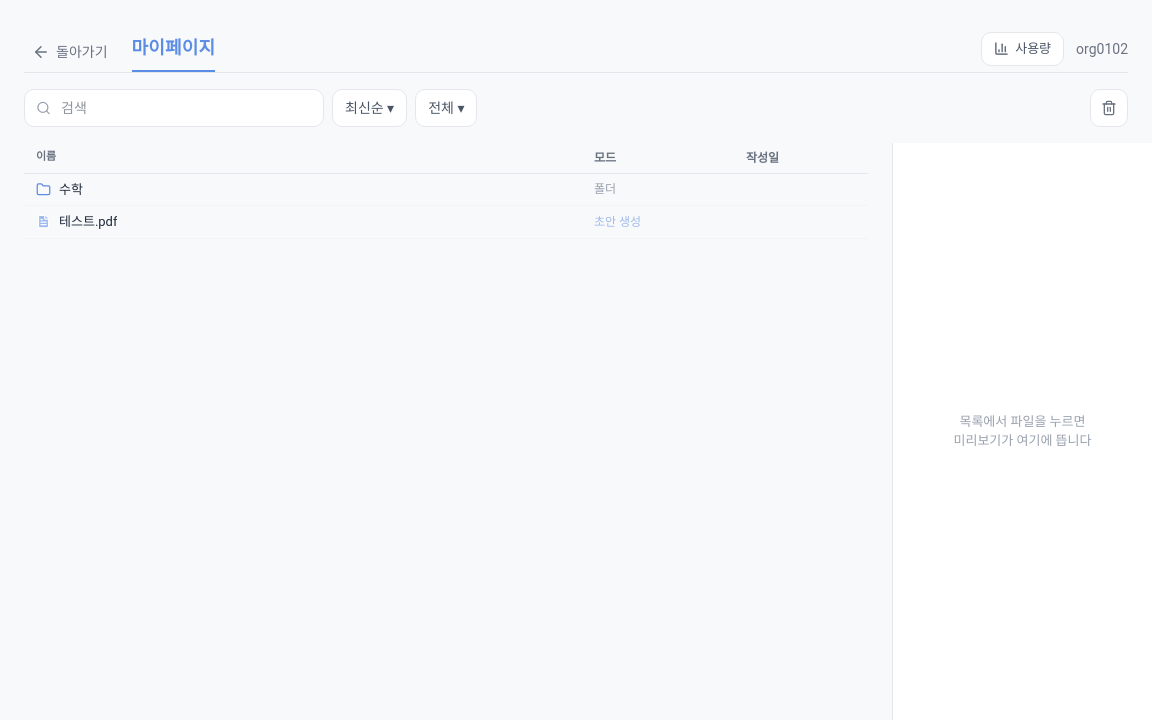
마이페이지 · 빈 곳 우클릭 › 빈 곳을 우클릭하면 새 폴더 메뉴가 뜬다
Expected: the text "수학" is shown, [59, 180, 83, 199]
줄이 아닌 본문 영역
Right-click the text "수학" at (446, 190), box [24, 142, 868, 238]
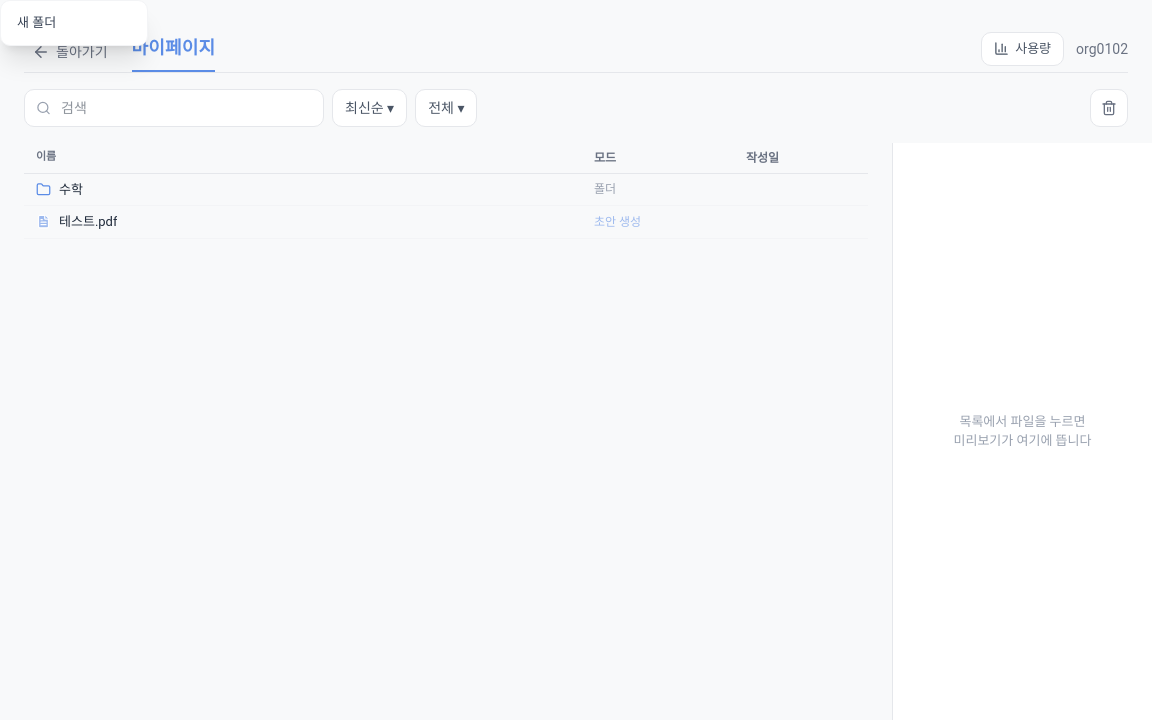
Click the menu item "새 폴더" at (74, 23), box [1, 7, 147, 38]
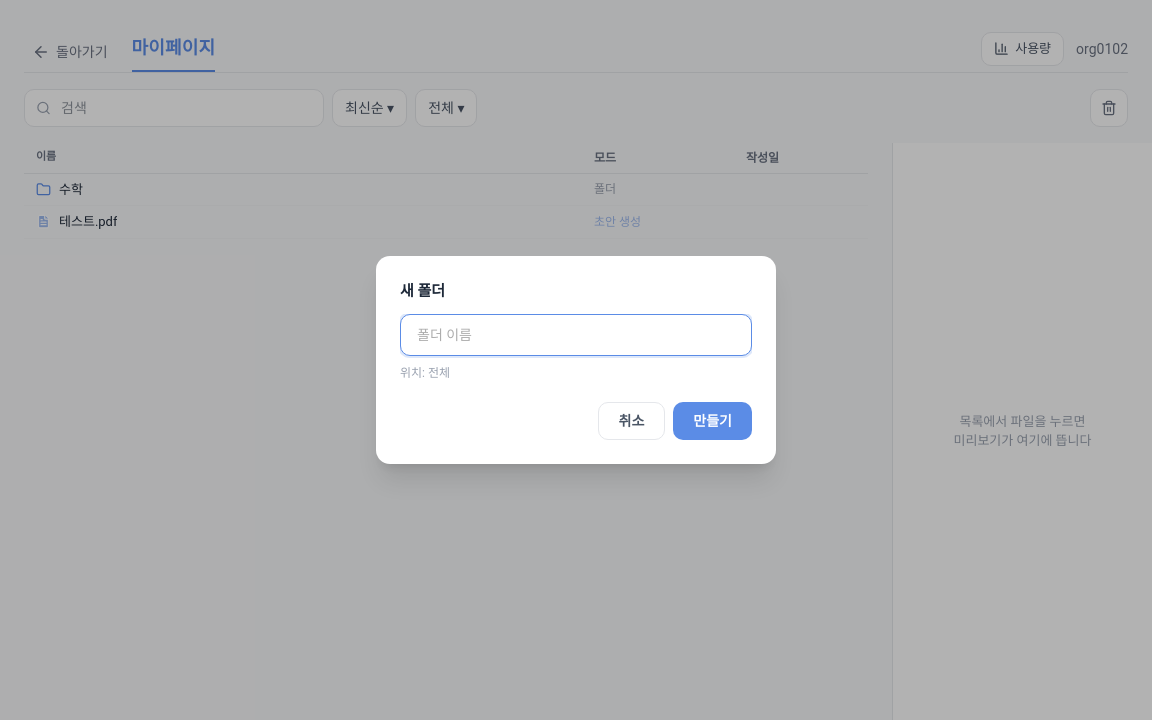
Result: the dialog "새 폴더" is shown at [376, 256, 776, 464]
